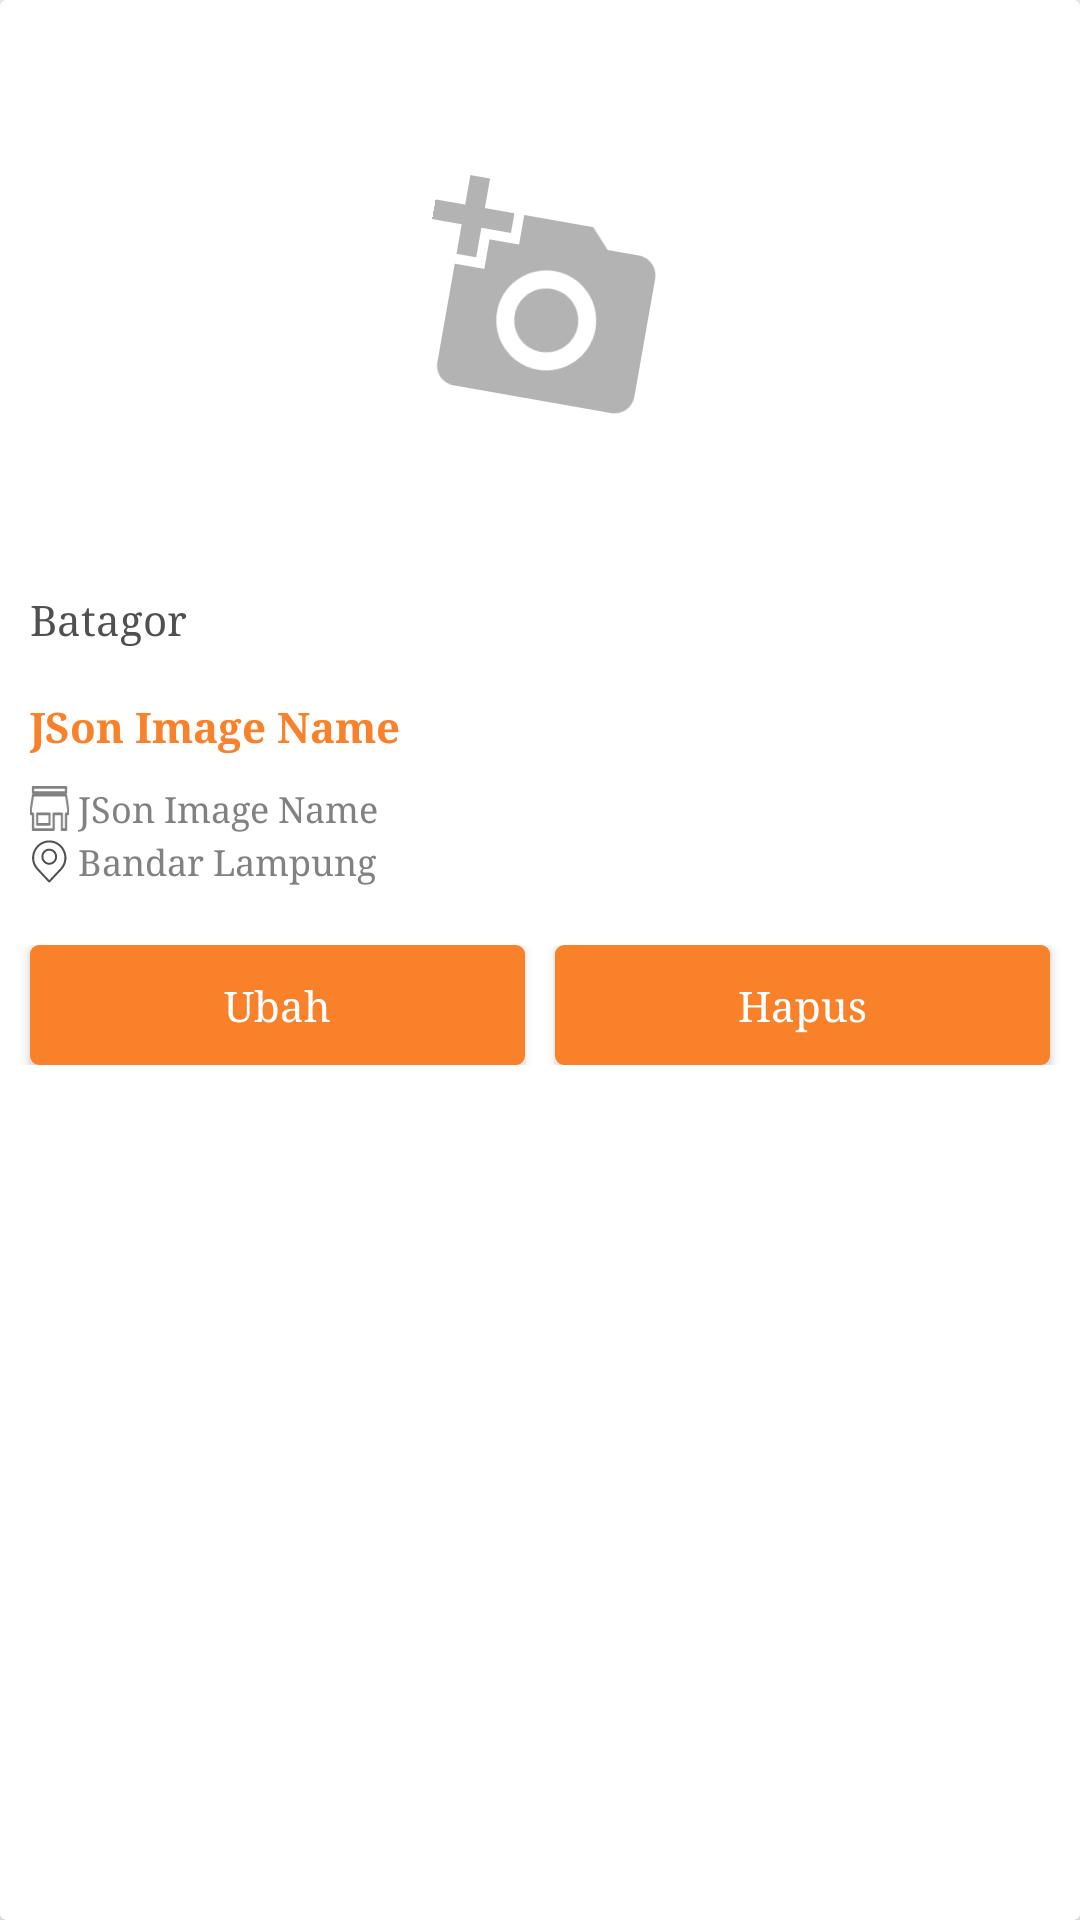

Screen size 1080px×1920px. Icon name, then its center in pixels as (x,y):
seller: (49,808)
